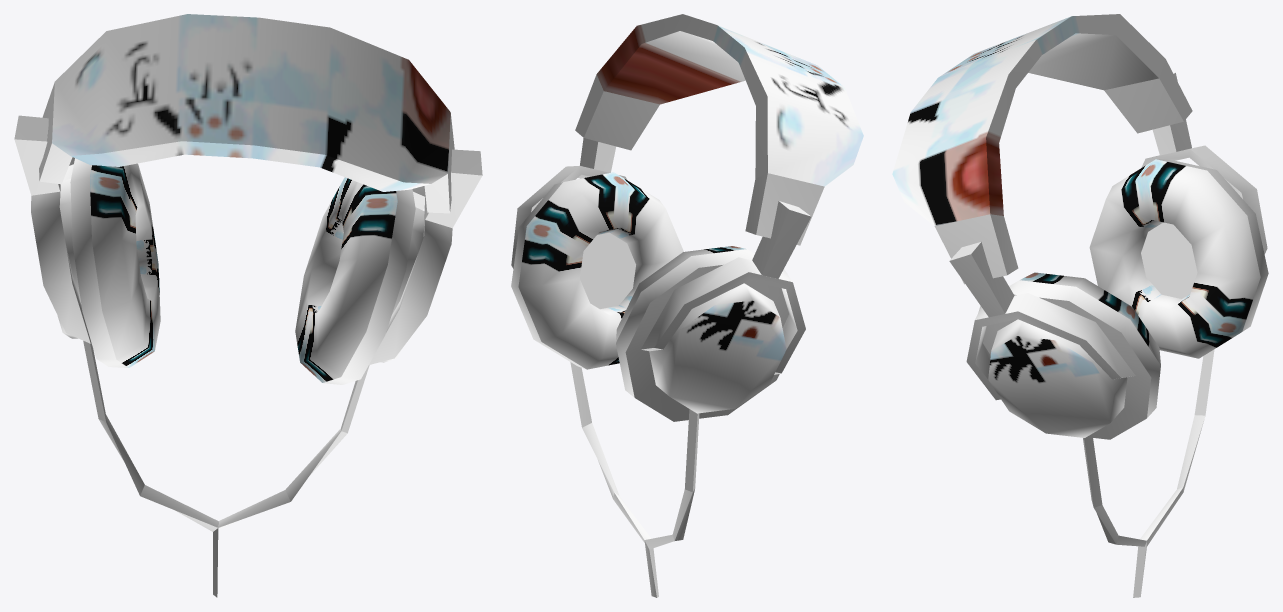
File: static.ico.obj
The picture shows the model from 3 angles, left to right: view 1: azimuth 30°, elevation 25°; view 2: azimuth 150°, elevation 25°; view 3: azimuth 270°, elevation 25°; orthographic projection. The views are drawn at different scales.
Size of the model in its own units: 2.96 by 4.66 by 2.87.
